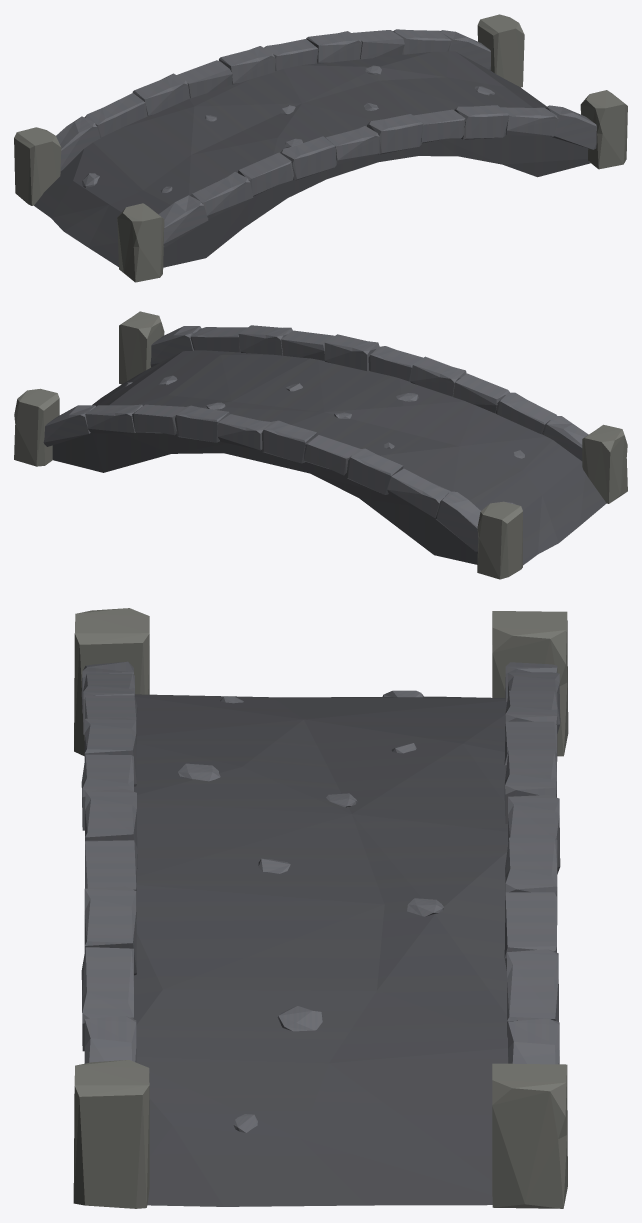
Rendered from Bridge_3.fbx.
The picture shows the model from 3 angles, top to bottom: view 1: azimuth 30°, elevation 25°; view 2: azimuth 150°, elevation 25°; view 3: azimuth 270°, elevation 25°; orthographic projection. The views are drawn at different scales.
Parts seen in each view (by area): view 1: polySurface10301; view 2: polySurface10301; view 3: polySurface10301.
Boxes of the visible parts, left/top/right/bottom form: polySurface10301: left=14, top=14, right=627, bottom=282; polySurface10301: left=14, top=311, right=627, bottom=579; polySurface10301: left=73, top=608, right=568, bottom=1208.
Bounding box in the file's own units: 1106 × 195 × 477.
